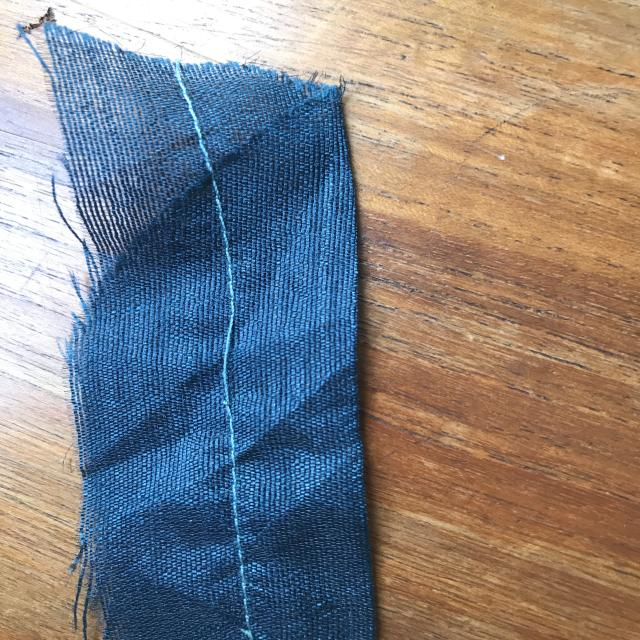skip: (189, 300, 257, 424)
